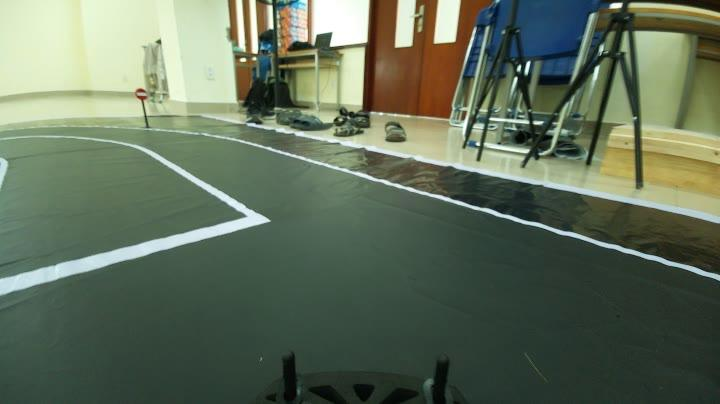no_entry: (130, 82, 150, 104)
